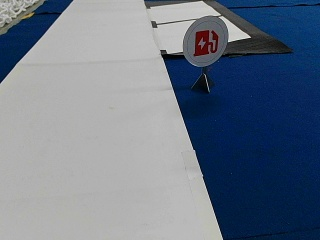battery: (182, 15, 228, 67)
